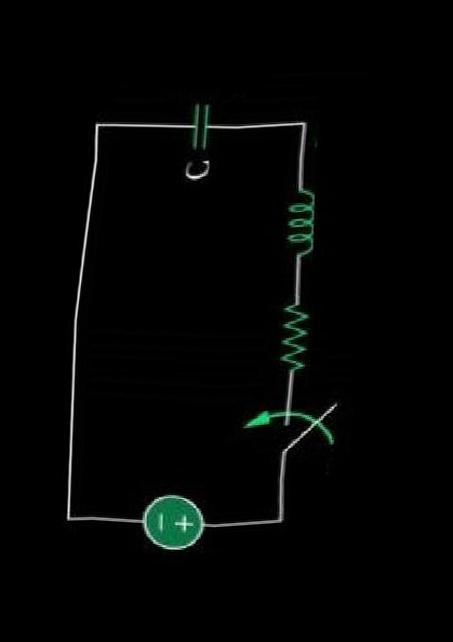Battery: (118, 472, 227, 569)
